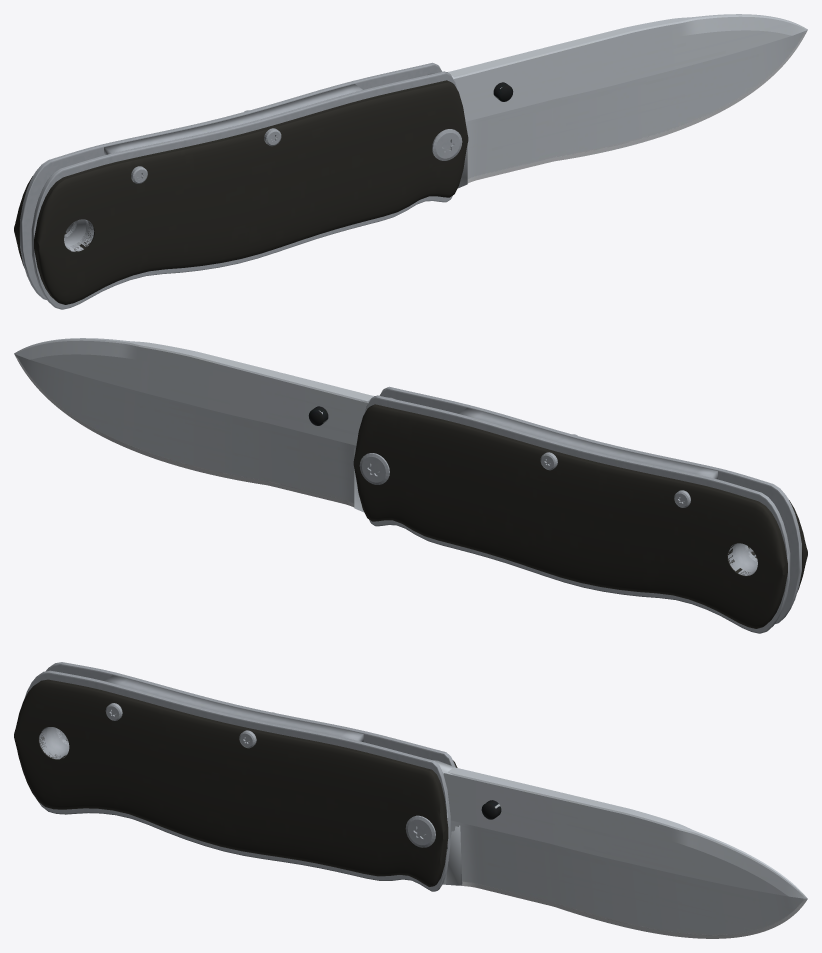
Rendered from nomad.glb.
3 renders of one model, top to bottom at view 1: azimuth 30°, elevation 25°; view 2: azimuth 150°, elevation 25°; view 3: azimuth 330°, elevation 25°, orthographic.
Visible parts, largest first — view 1: body, blade_pivot_mesh; view 2: body, blade_pivot_mesh; view 3: body, blade_pivot_mesh.
Boxes of the visible parts, left/top/right/bottom form: body: left=14, top=62, right=468, bottom=309; blade_pivot_mesh: left=427, top=14, right=807, bottom=188; body: left=353, top=386, right=807, bottom=633; blade_pivot_mesh: left=14, top=338, right=394, bottom=512; body: left=14, top=662, right=457, bottom=891; blade_pivot_mesh: left=432, top=760, right=807, bottom=938.
Bounding box in the file's own units: 0.234 × 0.0416 × 0.0146.
Materials: 5 (5 with a texture image).
